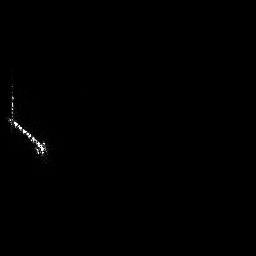ship: (5, 82, 49, 166)
